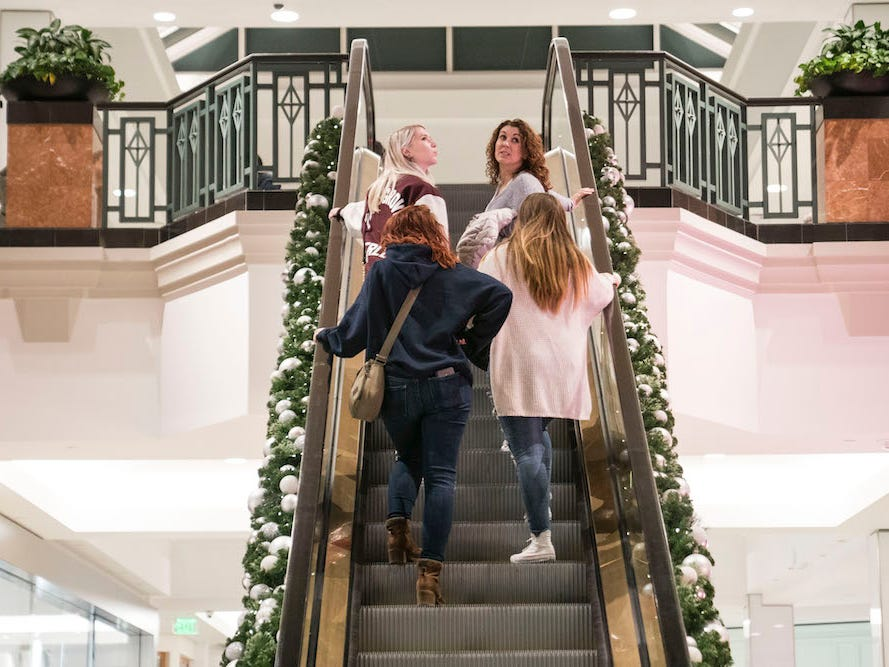Person: (340, 216, 508, 605), (482, 192, 616, 563), (374, 108, 461, 192), (482, 116, 579, 182)
